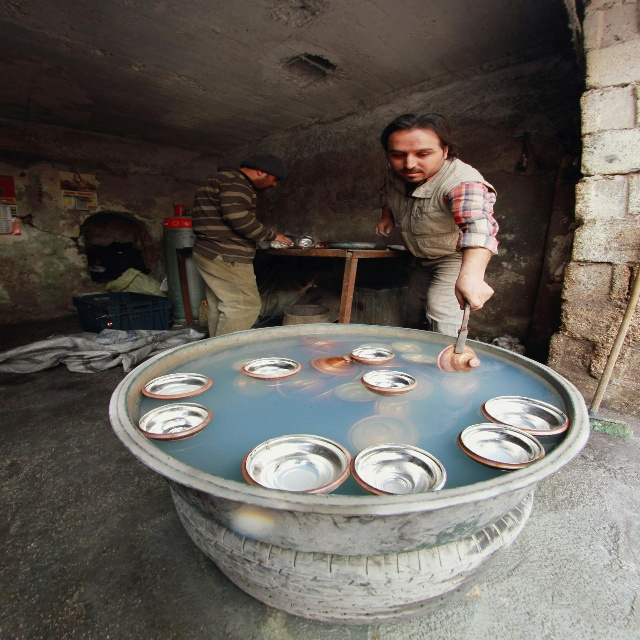Sin_guantes: (455, 271, 493, 313), (375, 218, 393, 235), (274, 231, 291, 247)
